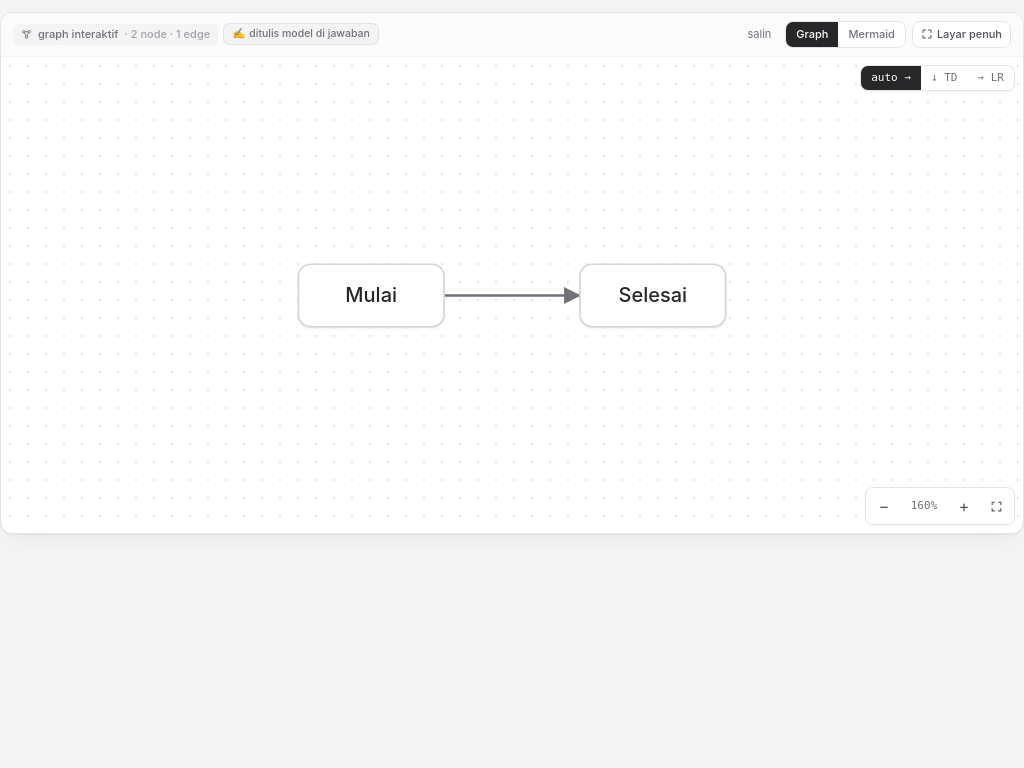
DiagramBlock — kanvas lebar & layar penuh › payload ditolak browser (mis. iframe tanpa allow) → tetap focus mode + alasan
This screenshot has width=1024, height=768.
Expected: the button with test id "graph-node-A" is shown, [298,263,445,327]
Click the button with test id "diagram-fullscreen" at (961,34), box [912,21,1011,48]
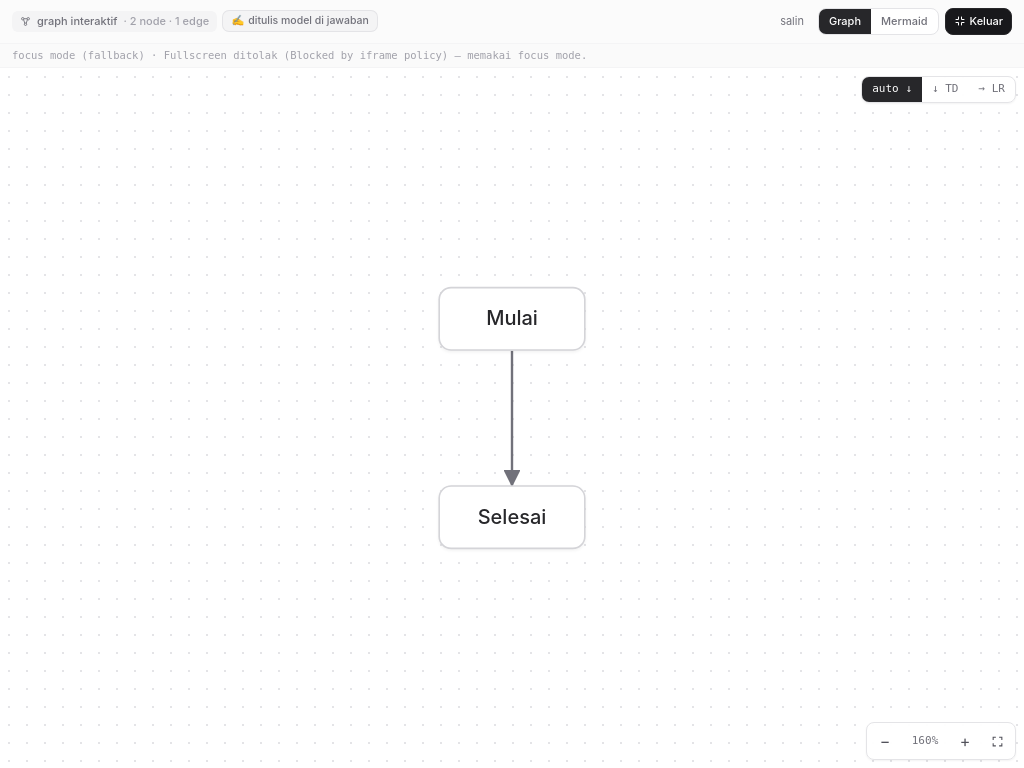
Expected: the text "Blocked by iframe policy" is shown, [12,48,587,60]
